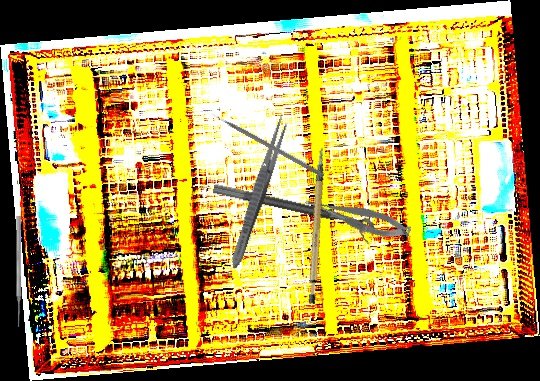Dressing Forceps: (226, 112, 292, 272)
Fixation Ring: (209, 182, 377, 245)
Hook Surgical: (210, 110, 326, 178)
Micro Scissor: (303, 184, 413, 249)
Pusher: (15, 216, 22, 327)
Scalpel Handle: (287, 145, 350, 306)
